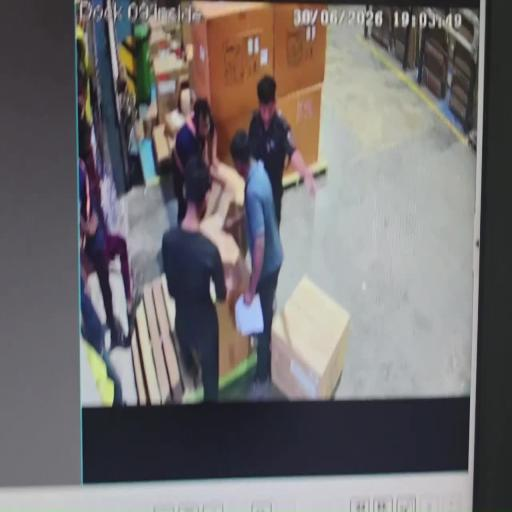carton: (189, 1, 272, 161), (270, 274, 351, 402), (272, 2, 329, 96), (216, 261, 258, 381), (280, 83, 324, 169), (200, 193, 240, 267), (219, 199, 247, 258), (210, 159, 246, 202), (152, 120, 176, 166)
pallet: (130, 274, 187, 407)
person: (160, 160, 230, 400), (229, 130, 284, 398), (246, 76, 318, 232), (78, 156, 132, 350), (169, 98, 223, 231), (77, 72, 102, 232), (79, 334, 125, 408), (81, 268, 103, 358)
